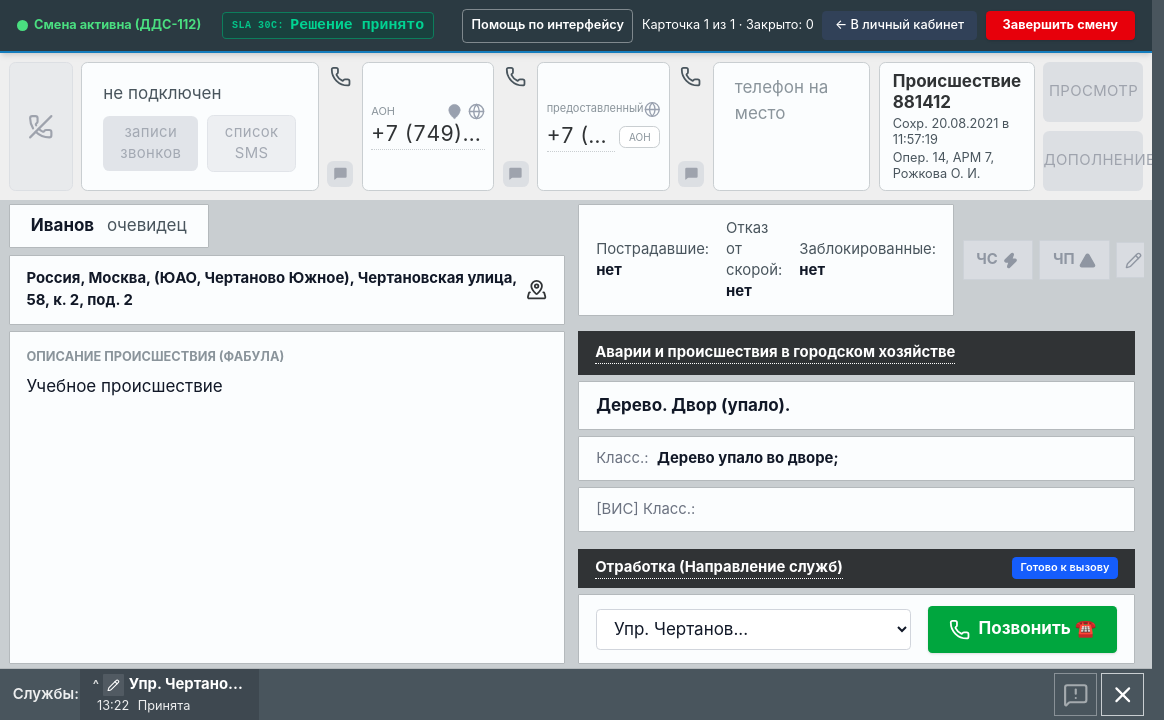
passes validated server options through the assigned console to the historical pencil menu
Step 1. Click the button named "Редактировать статус" → (114, 685), box [103,674,124,696]
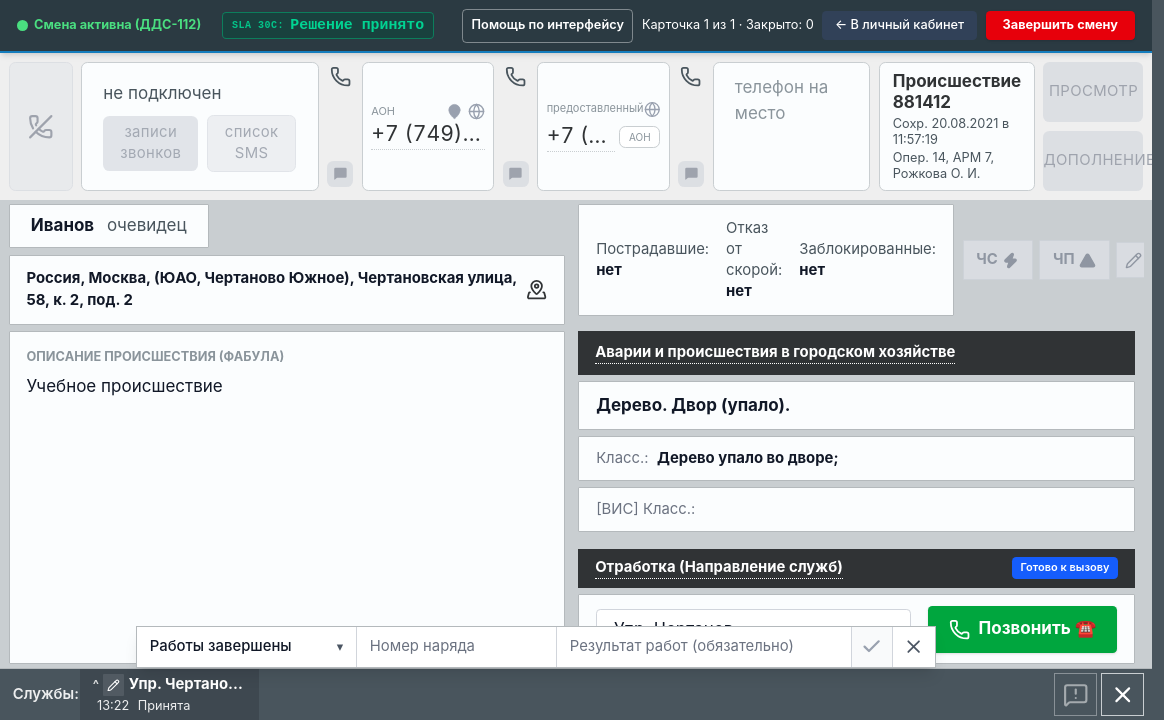
Check: the button with aria-label "Выбрать статус службы" shows "Работы завершены", box [150,636,343,658]
